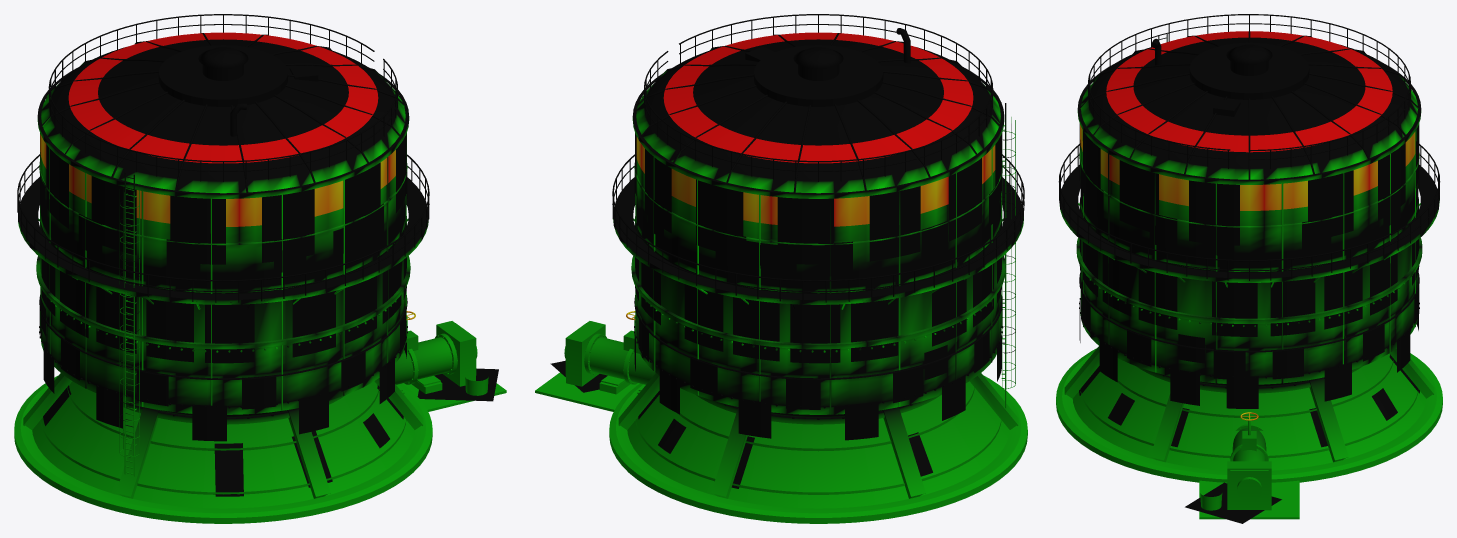
Rendered from largefueltank.glb.
3 views of the same model, side by side, from view 1: azimuth 30°, elevation 25°; view 2: azimuth 150°, elevation 25°; view 3: azimuth 270°, elevation 25° (orthographic). The views are drawn at different scales.
Parts seen in each view (by area): view 1: lod0; view 2: lod0; view 3: lod0.
Part boxes in pixels (x1,y1,x2,y2): lod0: (14, 14, 506, 523); lod0: (535, 14, 1027, 523); lod0: (1056, 14, 1442, 523).
Size of what is drawn, in the model's own units: 24.05 by 19.5 by 19.24.
